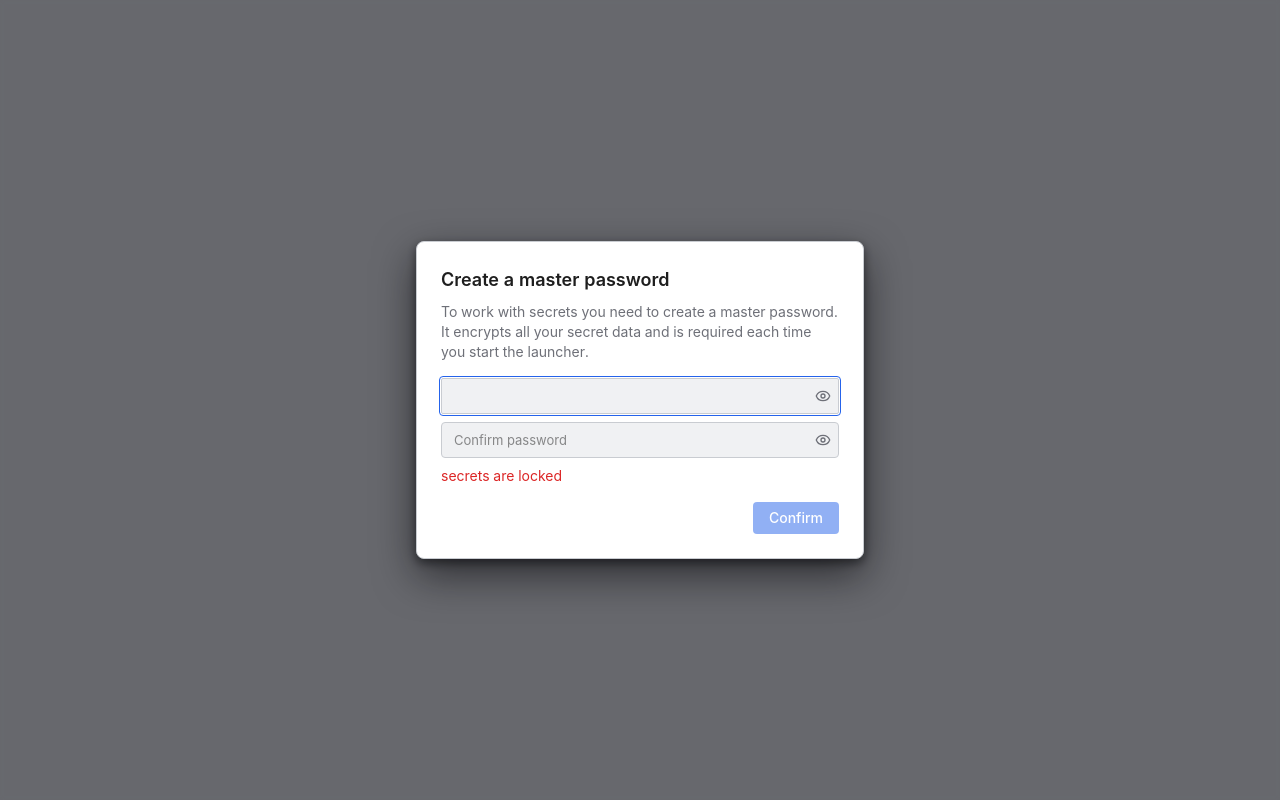
Test: MasterPasswordDialog create mode › reports a fresh mismatch rather than the parent error from an earlier attempt
This screenshot has width=1280, height=800.
Type "correct-horse" into the 1st password field at (640, 396), box [441,378,839,414]
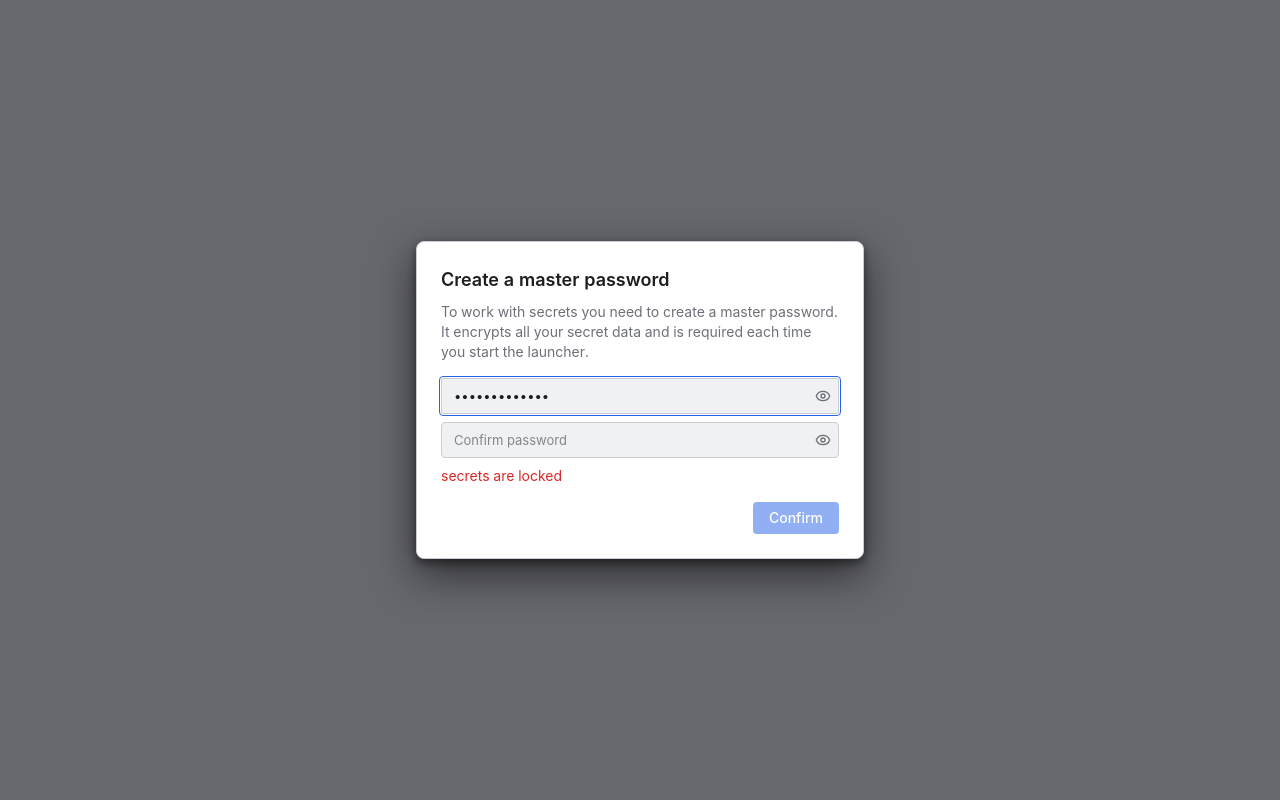
Type "battery-staple" into the password field with placeholder "Confirm password" at (640, 440), box [441,422,839,458]
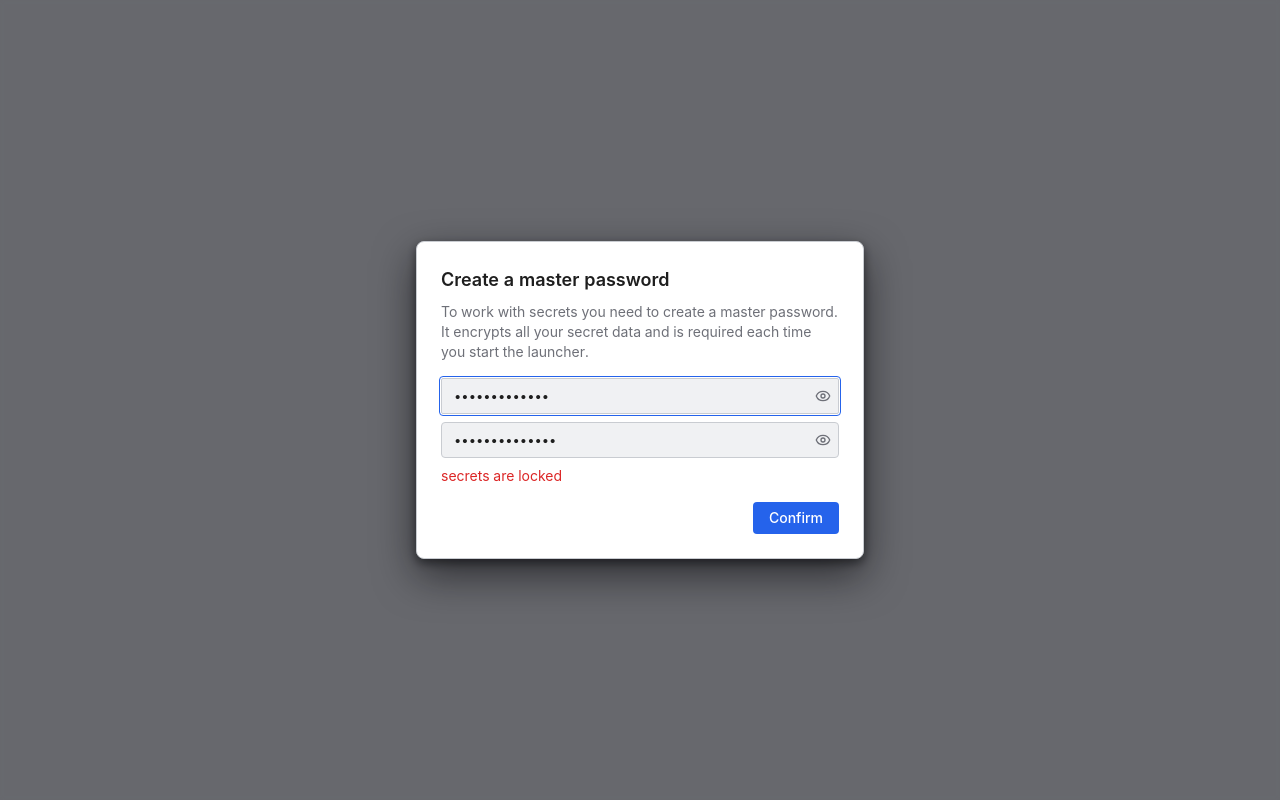
Click the button "Confirm" at (796, 518), box [753,502,839,534]
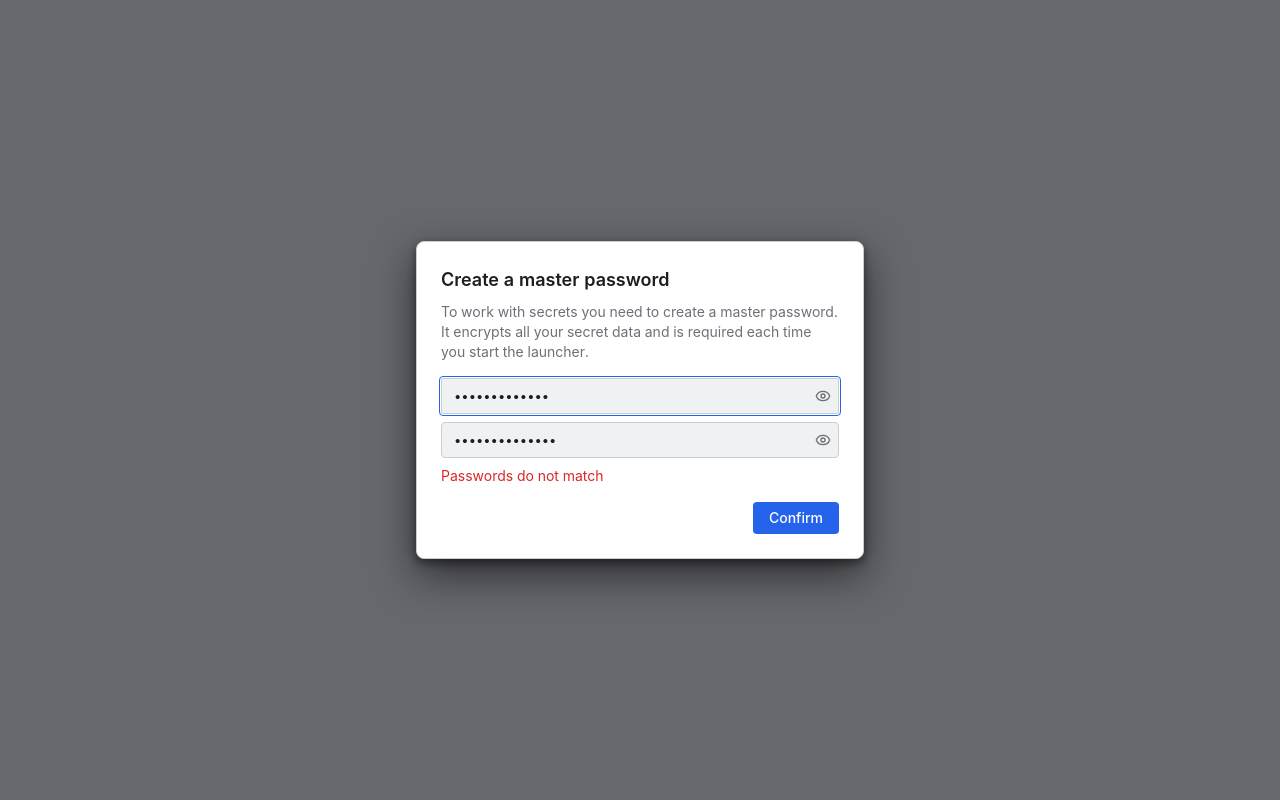
Check: the text "Passwords do not match" is shown, box [441,467,604,484]
Check: the text "secrets are locked" is gone
